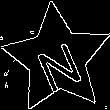N_NW: (29, 27, 85, 90)
